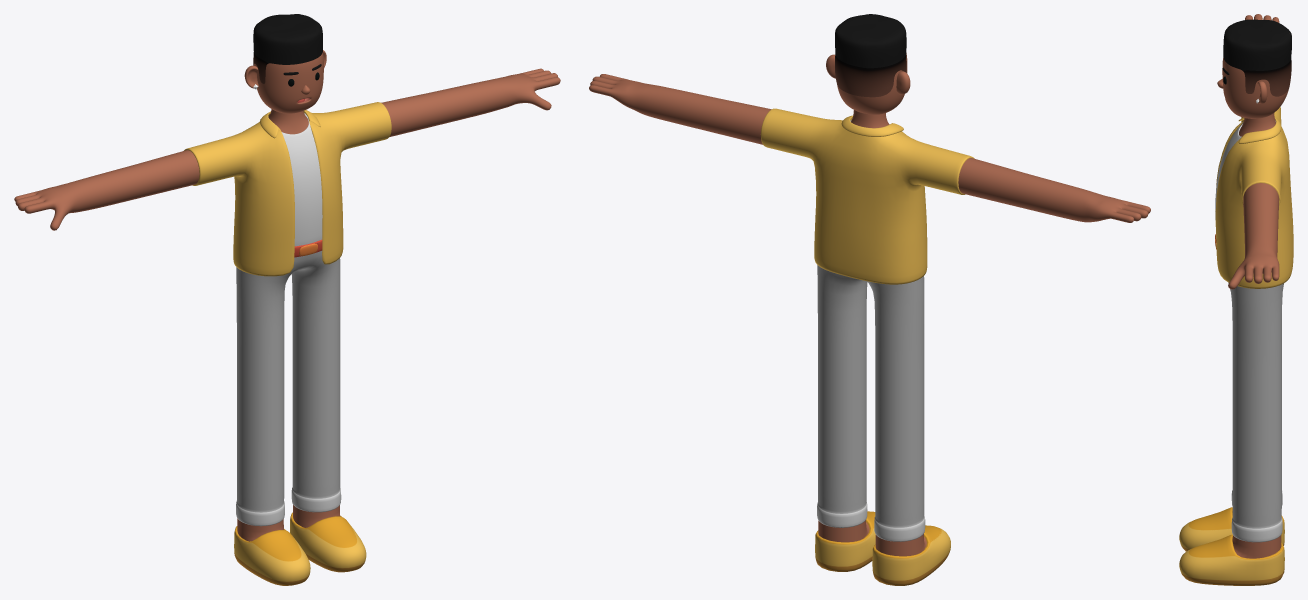
File: BOY 8.fbx
3 renders of one model, left to right at view 1: azimuth 30°, elevation 25°; view 2: azimuth 150°, elevation 25°; view 3: azimuth 270°, elevation 25°, orthographic. The views are drawn at different scales.
Visible parts, largest first — view 1: BOY 8_PANTS, BOY_BODY.008, BOY 8_SHIRT.001, BOY 8_HAIR, BOY 8_SHIRT, BOY_8_SHOES.R, BOY_8_SHOES.L; view 2: BOY 8_PANTS, BOY 8_SHIRT.001, BOY_BODY.008, BOY 8_HAIR, BOY_8_SHOES.R, BOY_8_SHOES.L; view 3: BOY 8_PANTS, BOY 8_SHIRT.001, BOY_BODY.008, BOY 8_HAIR, BOY_8_SHOES.L, BOY_8_SHOES.R, BOY 8_SHIRT.
Part boxes in pixels (box(x1,y1,x2,y2)): BOY 8_PANTS: box(236, 251, 341, 526); BOY_BODY.008: box(14, 50, 560, 541); BOY 8_SHIRT.001: box(184, 102, 391, 276); BOY 8_HAIR: box(253, 14, 322, 83); BOY 8_SHIRT: box(281, 113, 322, 246); BOY_8_SHOES.R: box(234, 526, 310, 585); BOY_8_SHOES.L: box(290, 512, 366, 572); BOY 8_PANTS: box(817, 265, 925, 541); BOY 8_SHIRT.001: box(760, 108, 974, 284); BOY_BODY.008: box(589, 53, 1150, 556); BOY 8_HAIR: box(835, 14, 906, 97); BOY_8_SHOES.R: box(872, 525, 950, 585); BOY_8_SHOES.L: box(815, 511, 875, 571); BOY 8_PANTS: box(1228, 282, 1283, 542); BOY 8_SHIRT.001: box(1215, 107, 1293, 288); BOY_BODY.008: box(1217, 14, 1288, 558); BOY 8_HAIR: box(1223, 19, 1291, 96); BOY_8_SHOES.L: box(1179, 534, 1284, 585); BOY_8_SHOES.R: box(1179, 507, 1284, 551); BOY 8_SHIRT: box(1215, 121, 1275, 219).
Size of the model in its own units: 205 by 191 by 37.3.
Materials: 12 (9 with a texture image).
